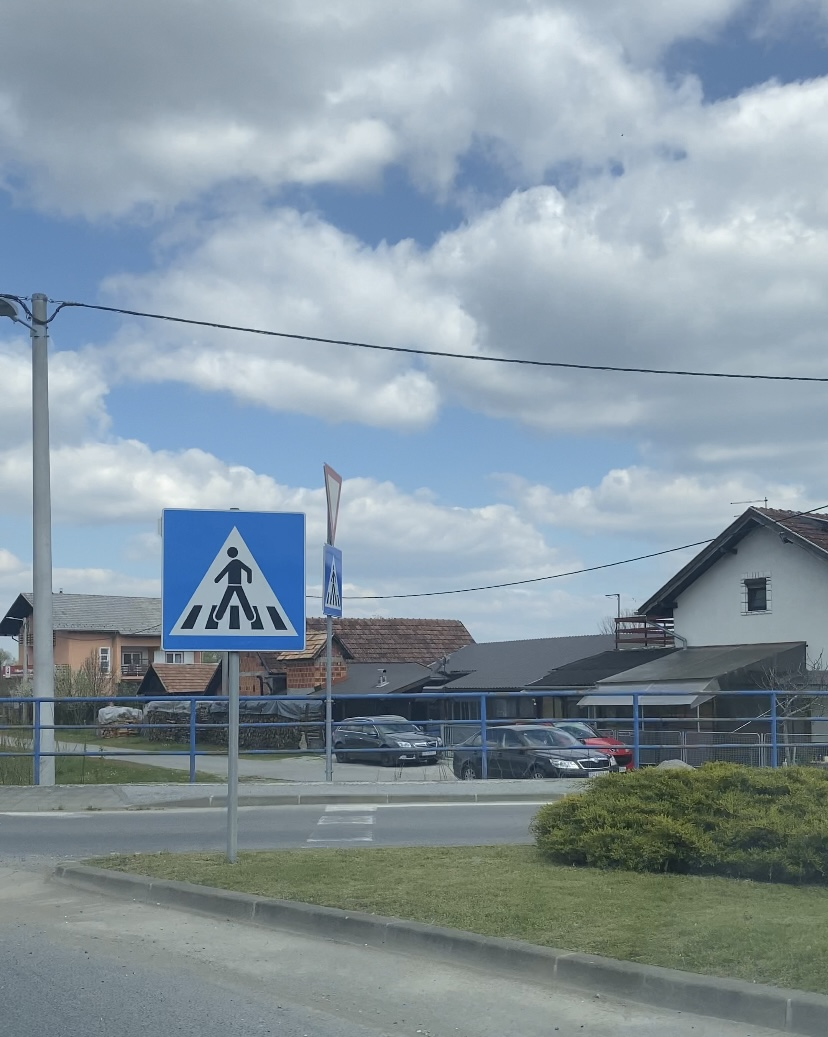Pješački prijelaz: (161, 508, 305, 652)
